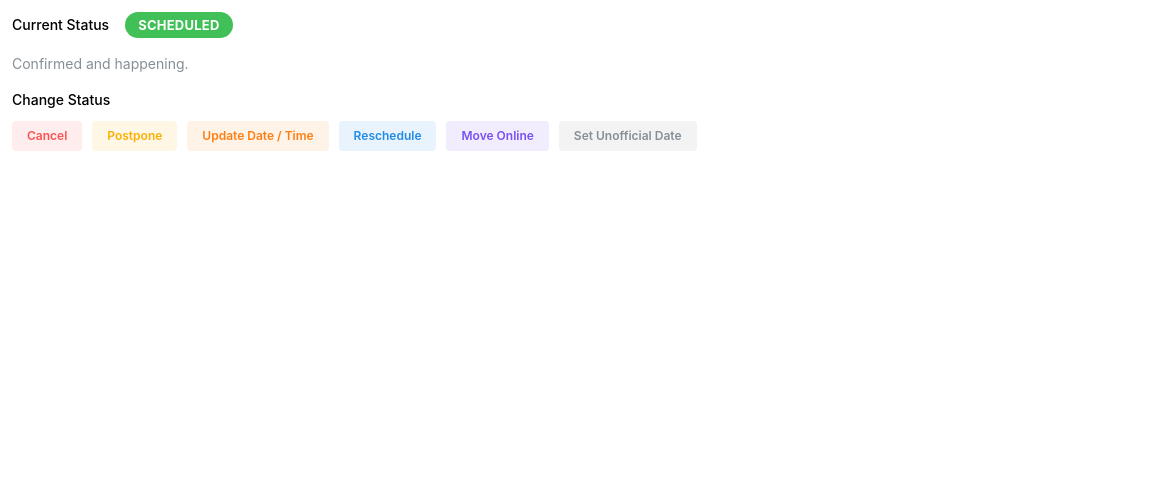
it: EventStatusSection › clicking "Postpone" shows status_explanation field and contact organizer toggle
Click the button "Postpone" at (135, 136), box top-left (92, 121), bottom-right (177, 151)
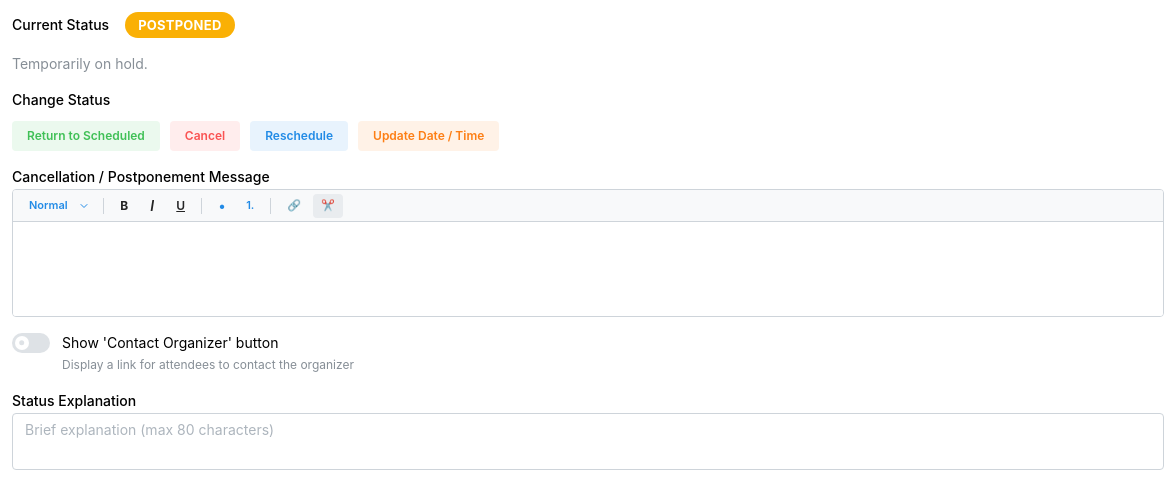
Check: the text "Status Explanation" is shown, box top-left (12, 390), bottom-right (136, 412)
Check: the text "Show 'Contact Organizer' button" is shown, box top-left (62, 334), bottom-right (278, 351)
